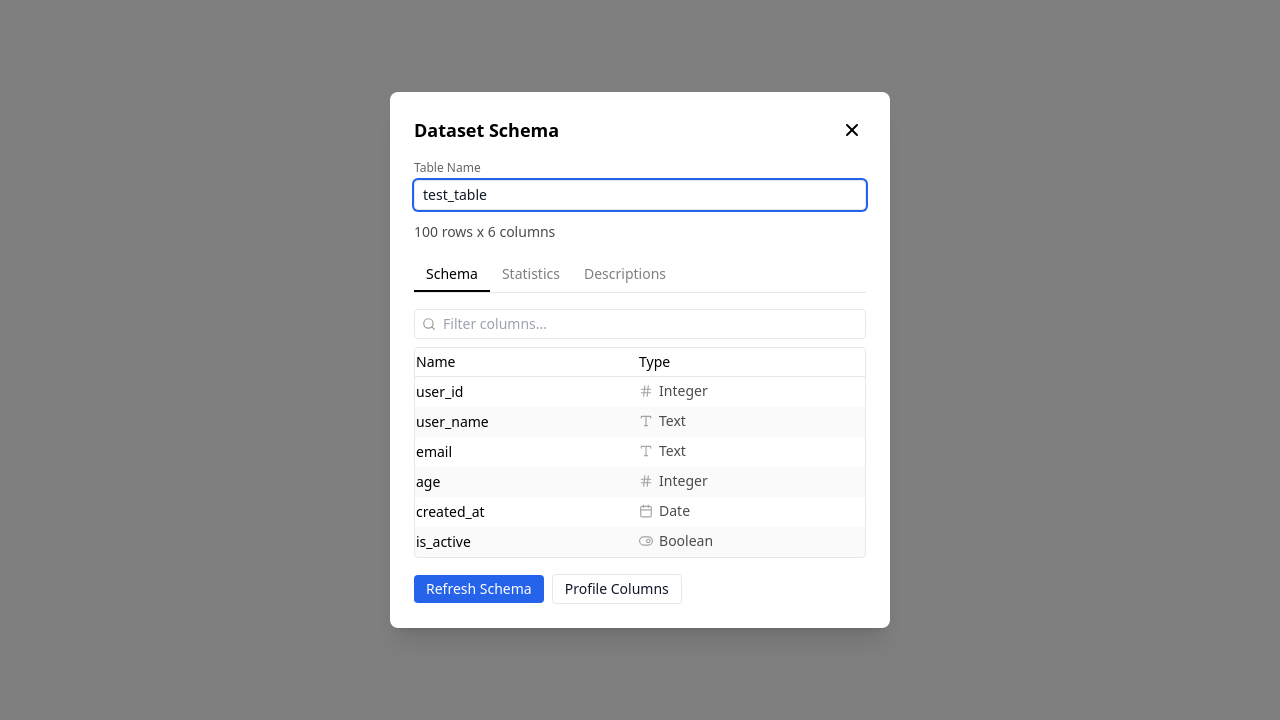
Test: SM-SEARCH-5: Clear button resets search › clears search when clear button is clicked
The width and height of the screenshot is (1280, 720).
Type "user" into the field with test id "schema-column-search" at (640, 324), box x1=414 y1=309 x2=866 y2=339
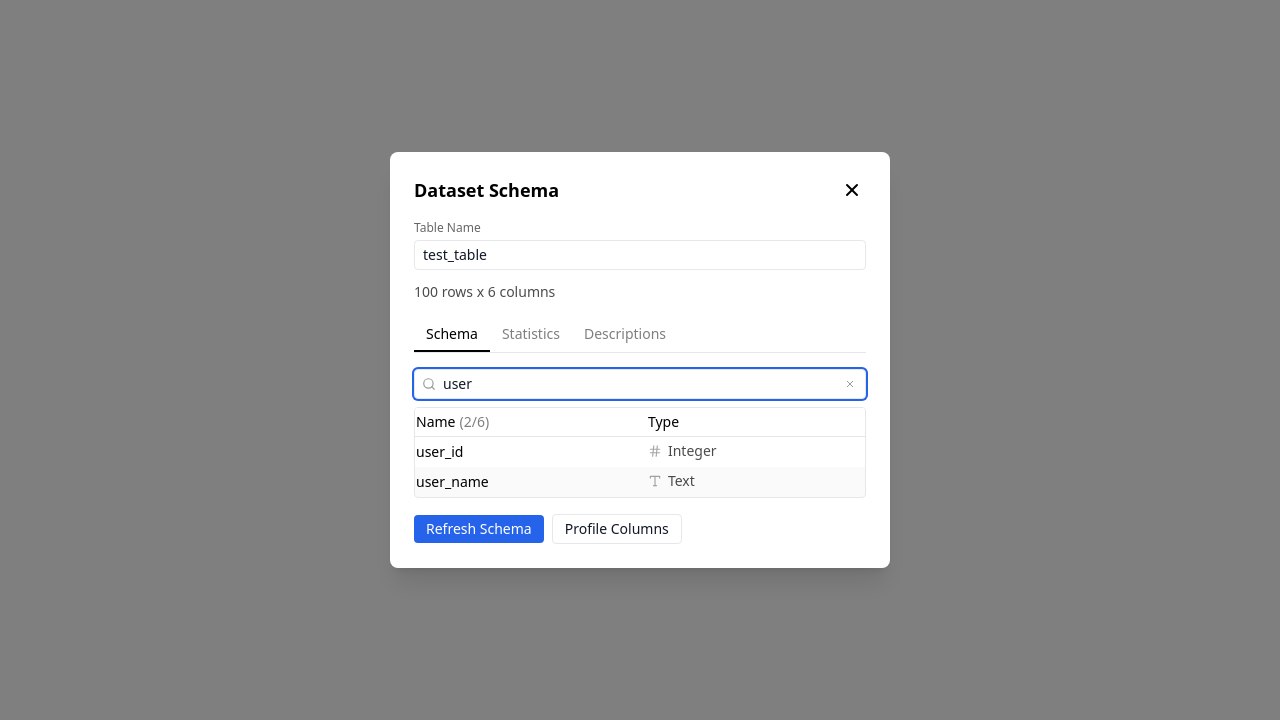
Expected: the text "email" is gone
Note: Click clear button
Click the button named "Clear search" at (850, 384), box x1=842 y1=376 x2=858 y2=392
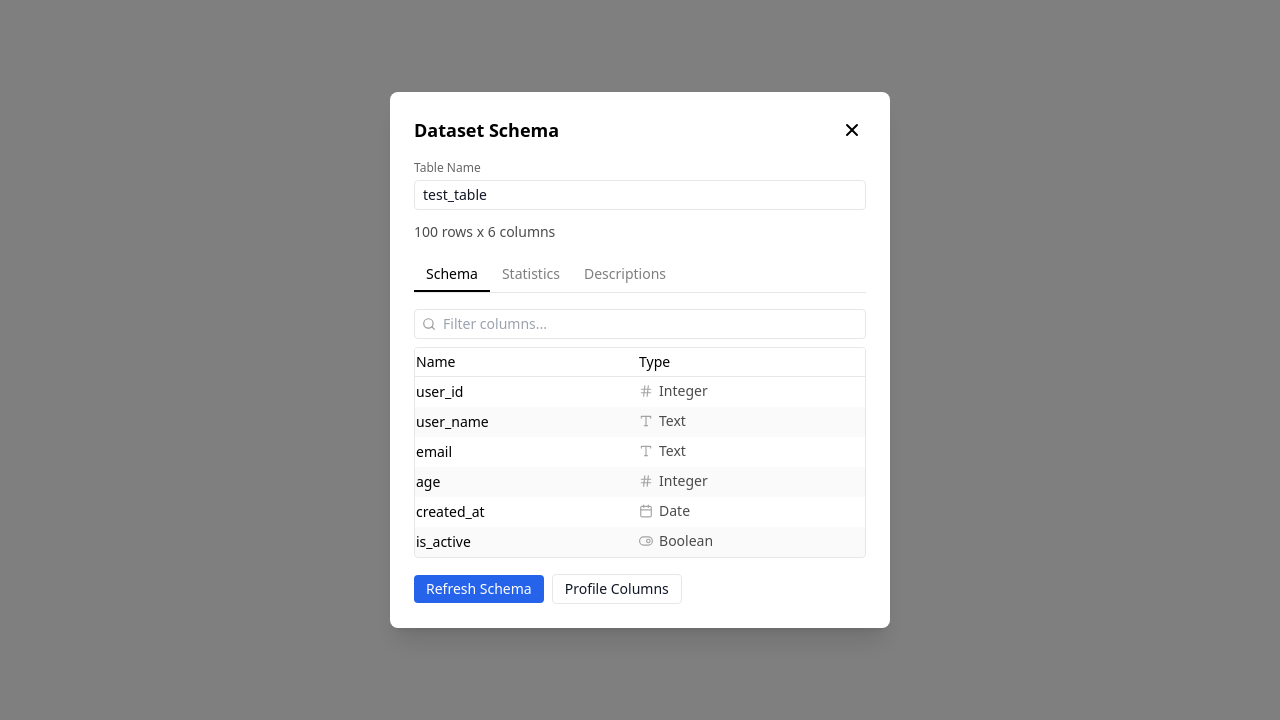
Expected: the text "email" is shown, x1=415 y1=437 x2=638 y2=467
Expected: the text "age" is shown, x1=415 y1=467 x2=638 y2=497
Expected: the text "created_at" is shown, x1=415 y1=497 x2=638 y2=527
